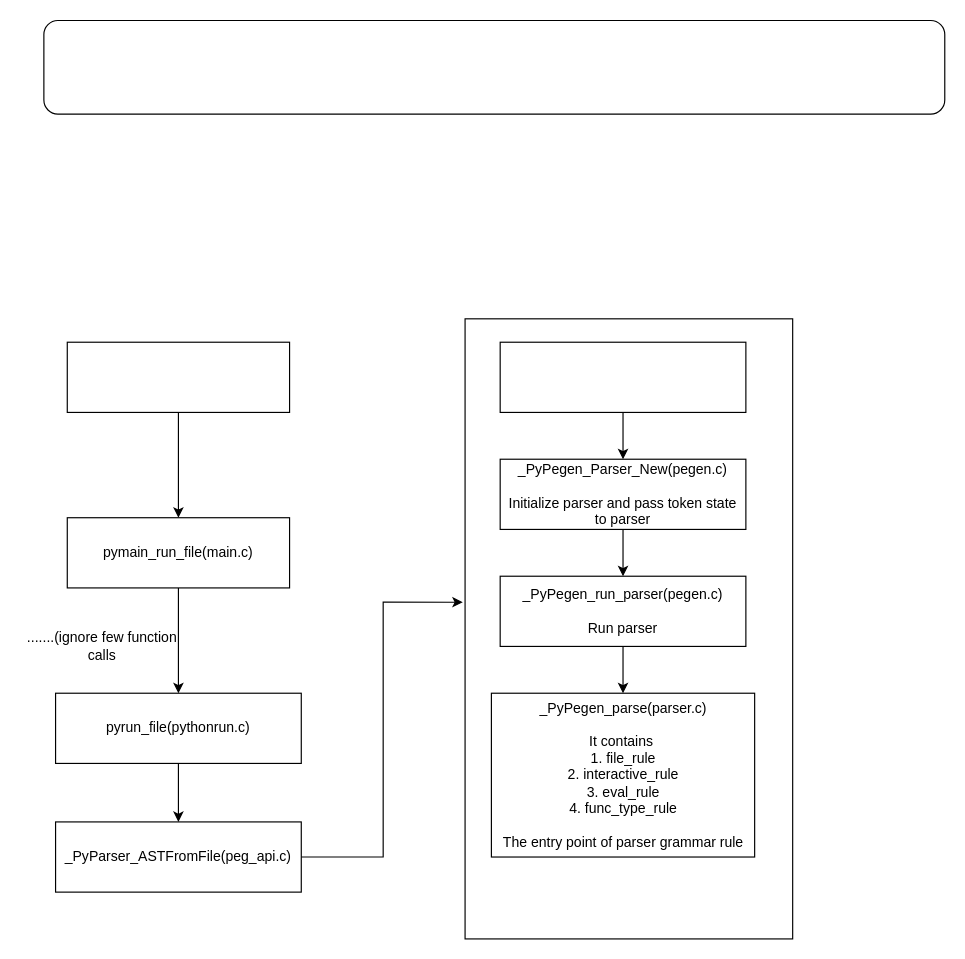
Image size: 965x959. Some labels were removed from this diagram. The shapes that lost their labels are listed below. From the top down, each one's centre as x and y in pixels, then its label:
[494,66]: Python RUN File call path
[178,376]: pymain_run_python(main.c)
[622,376]: _PyTokenizer_FromFile(pegen.c) Initialize token state
